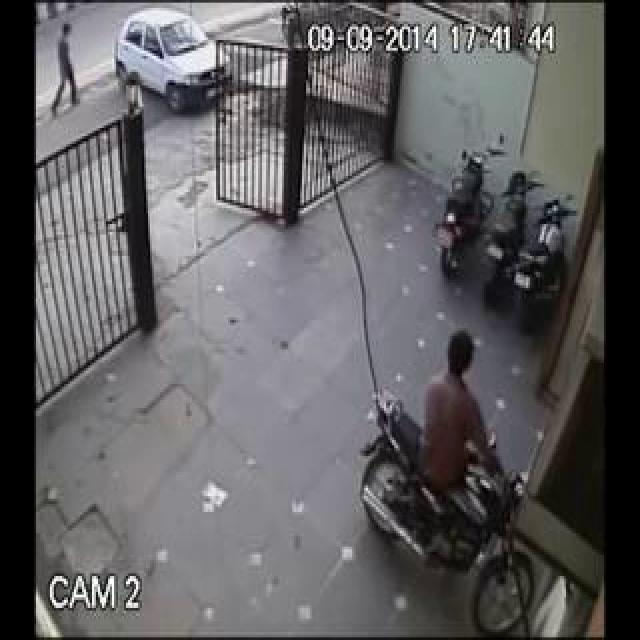stealing: (288, 263, 529, 634)
